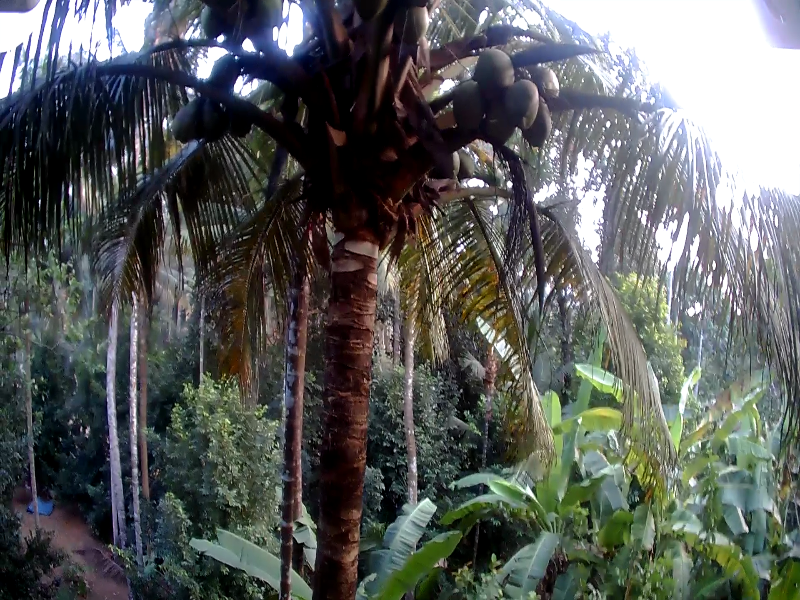coconut: (451, 84, 486, 132), (474, 47, 507, 93), (501, 78, 535, 119), (244, 1, 284, 34), (195, 100, 224, 142), (200, 4, 235, 38), (517, 96, 545, 135), (429, 140, 455, 179), (174, 99, 201, 136), (530, 59, 556, 96), (205, 53, 235, 84), (455, 139, 473, 182)
